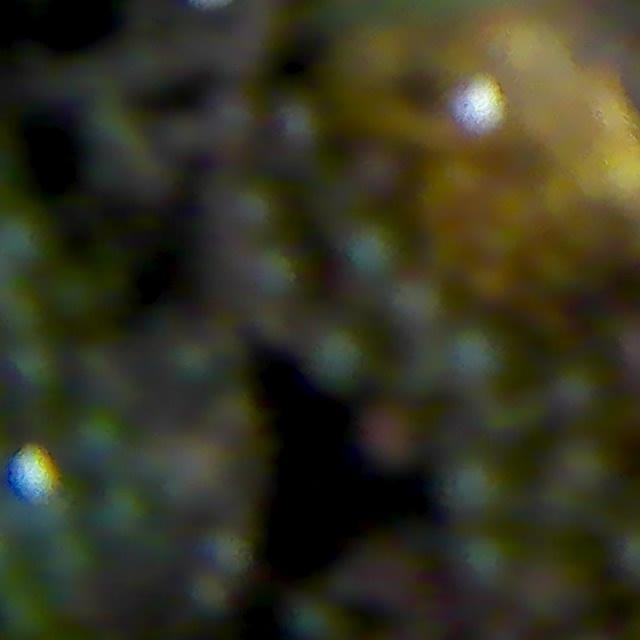SeaGrape: (543, 437, 615, 511), (338, 215, 408, 287), (383, 270, 451, 340), (440, 323, 510, 390), (441, 453, 510, 519), (0, 207, 52, 293), (357, 404, 422, 472), (304, 324, 367, 389), (545, 362, 606, 424), (455, 531, 515, 592), (6, 334, 62, 391), (72, 410, 125, 467), (284, 593, 344, 640)
